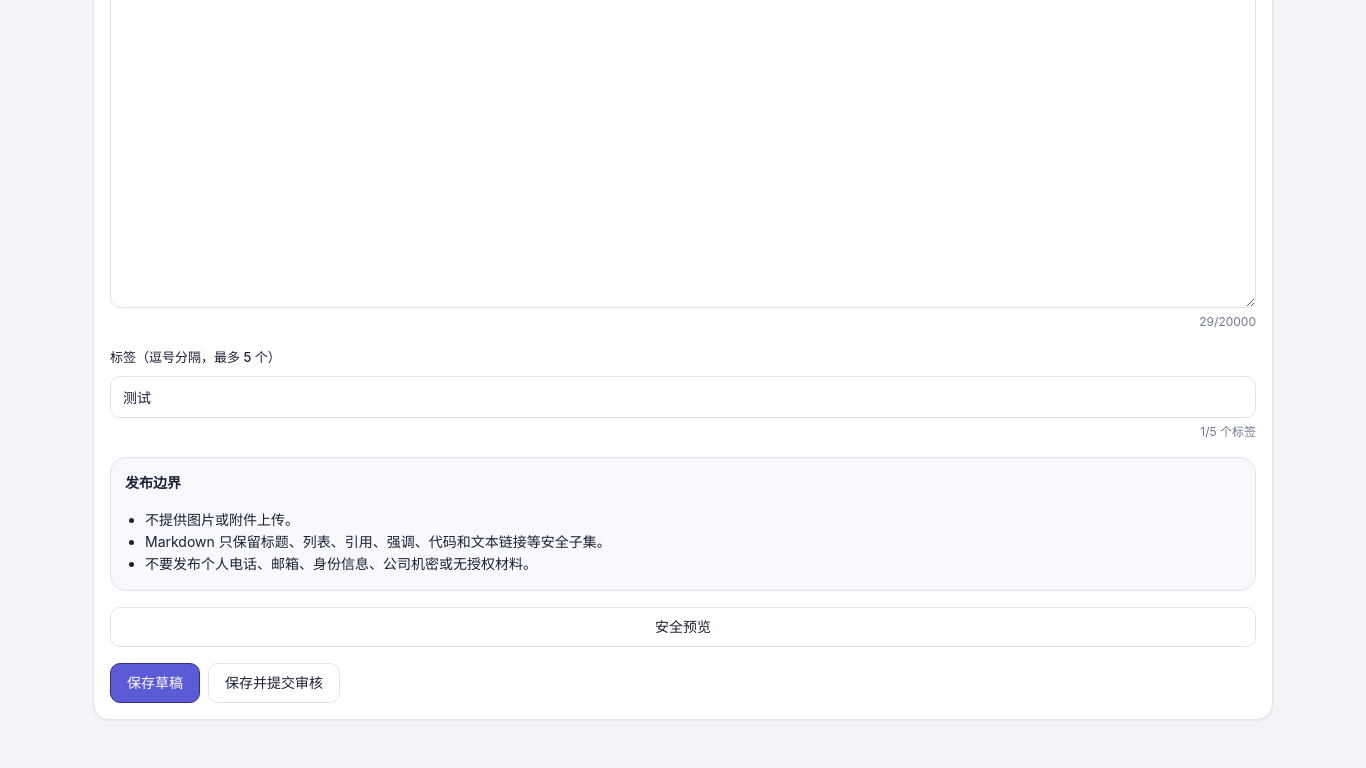
Scenario: CommunityPostEditorPage › does not overwrite a newer server version after 409
This screenshot has width=1366, height=768.
(page scrolled)
Click the button "保存草稿".
click(155, 683)  # box left=110, top=663, right=200, bottom=703
(page scrolled)
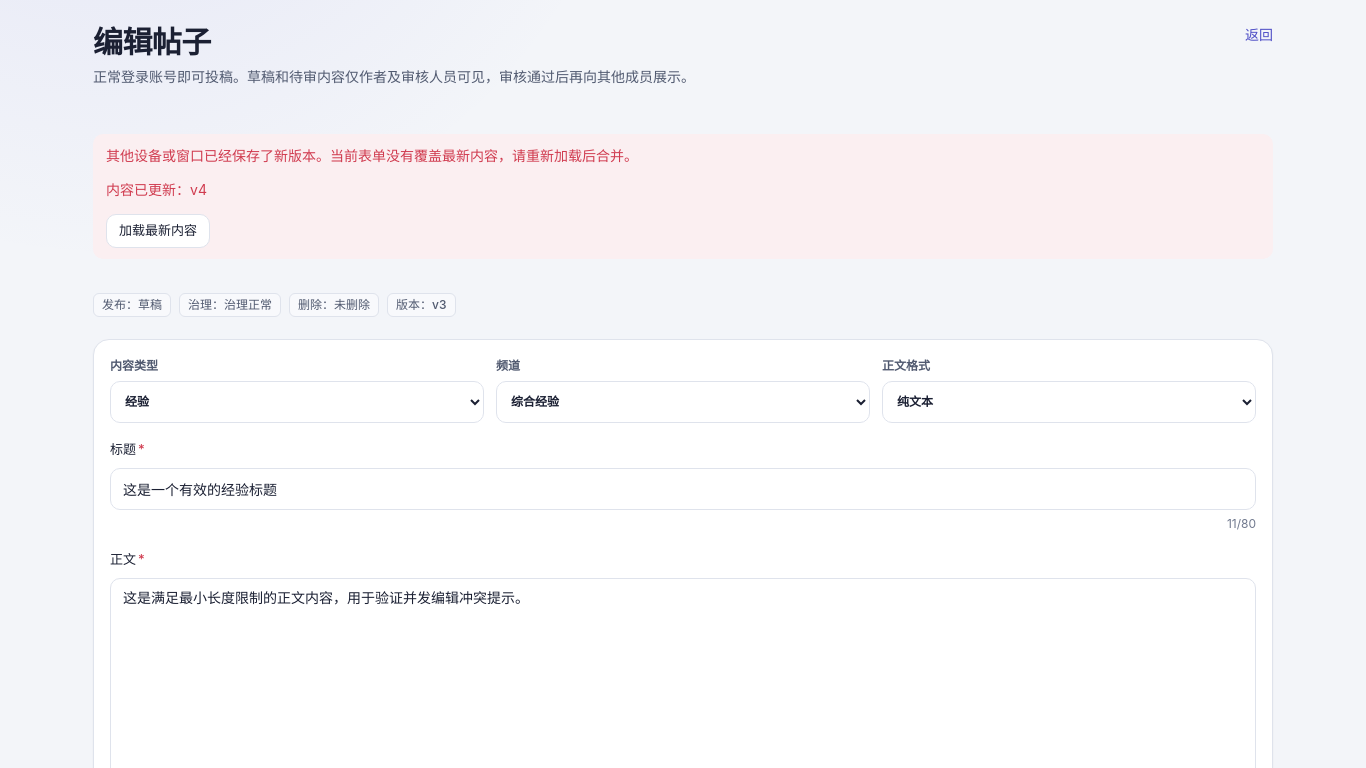
Check: the message shows "没有覆盖最新内容", box left=106, top=147, right=638, bottom=164
Check: the text "内容已更新：v4" is shown, box left=106, top=181, right=207, bottom=198
